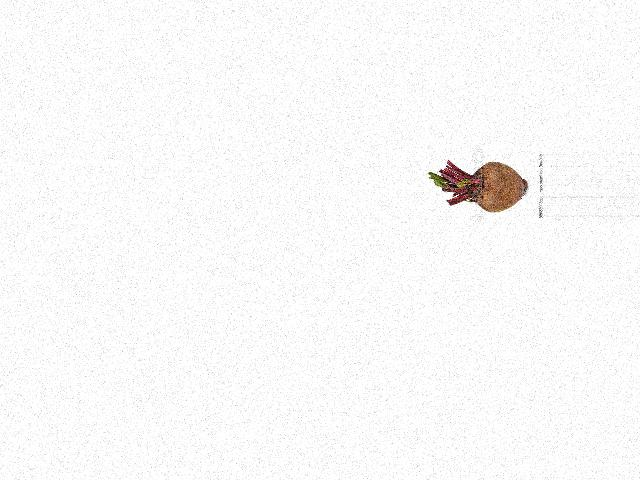beet: (428, 160, 526, 213)
